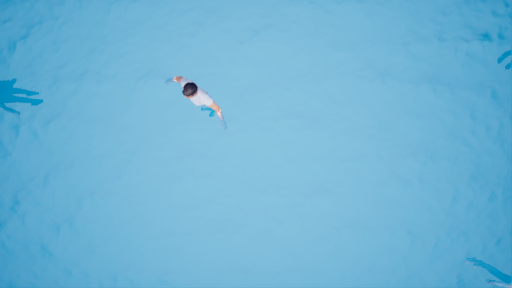person: (163, 75, 234, 132)
